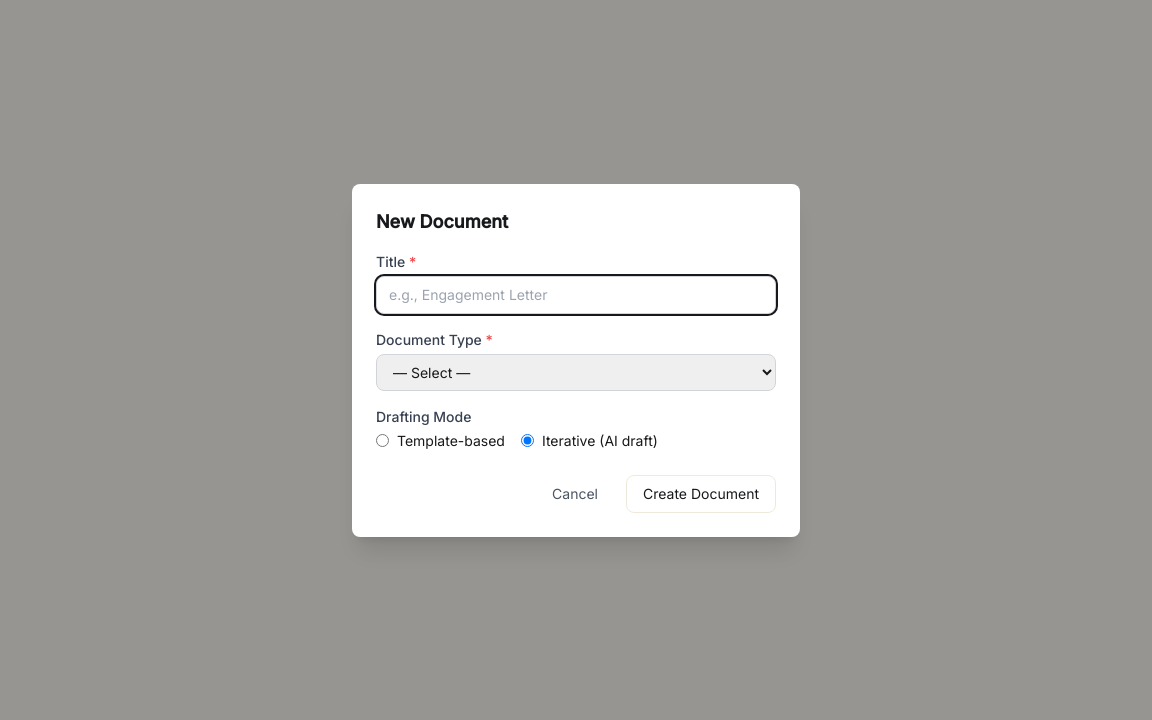
Test: DEED-INTAKE-PARITY-1 Inc 2 — deed routes to the matter Express intake › deed + agent ENABLED: the guided deed-intake CTA replaces the generic create form
Select "Deed (general/special warranty, quitclaim, gift)" in the dropdown. click: (576, 372)
box: [376,354,776,390]
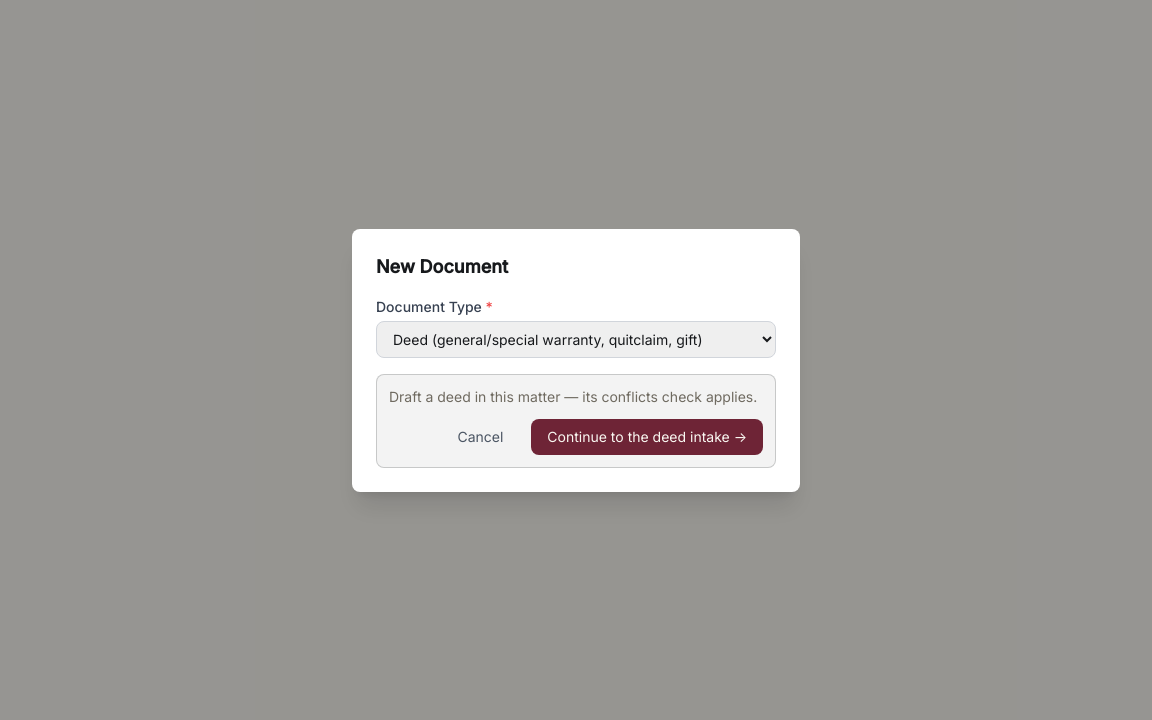
Result: the element with test id "deed-express-cta" is shown at [376,374,776,468]
Result: the submit button is gone
Result: the text "Create Document" is gone
